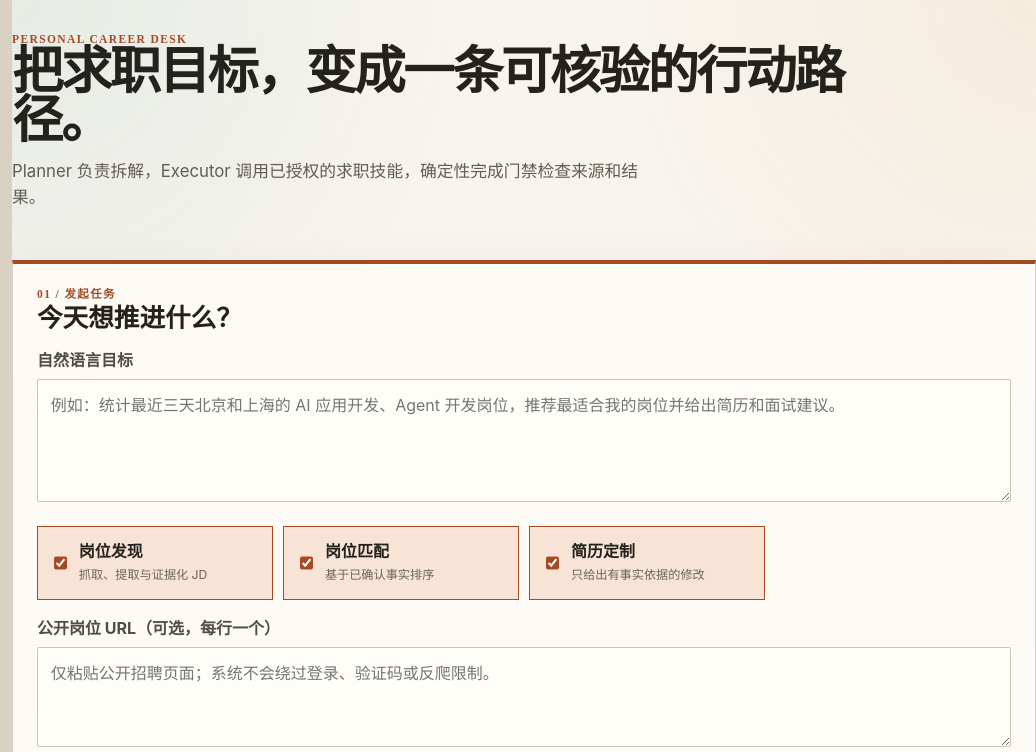
Test case: AgentWorkspace › maps an unavailable runtime to a user-readable safe error
The image size is (1036, 752).
Type "找岗位" into the text box named "goal". click: point(524, 441)
box: [37,379,1011,502]
(page scrolled)
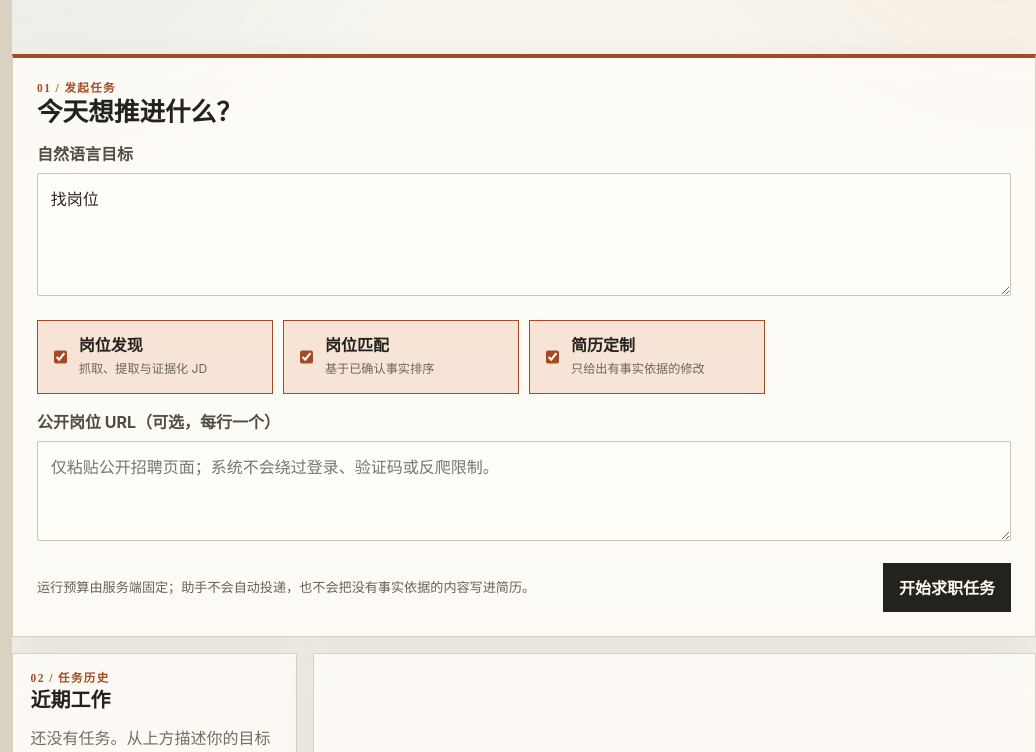
Submit the form, box [37,142,1011,612]
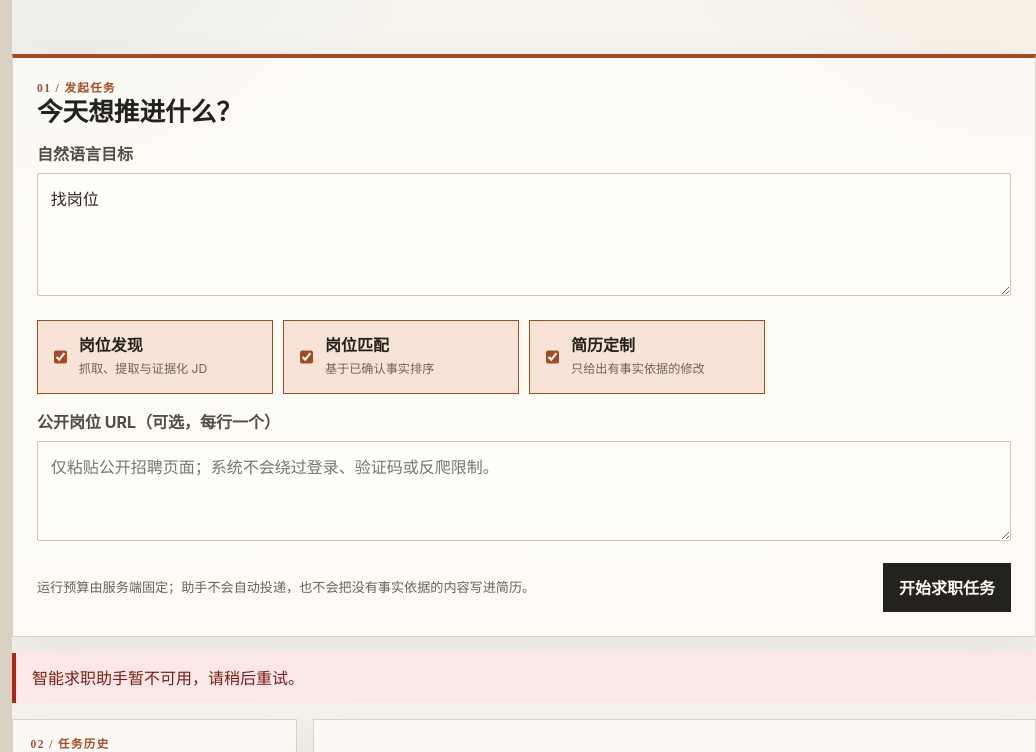
Check: the text "智能求职助手暂不可用，请稍后重试。" is shown, box [12,653,1035,703]
